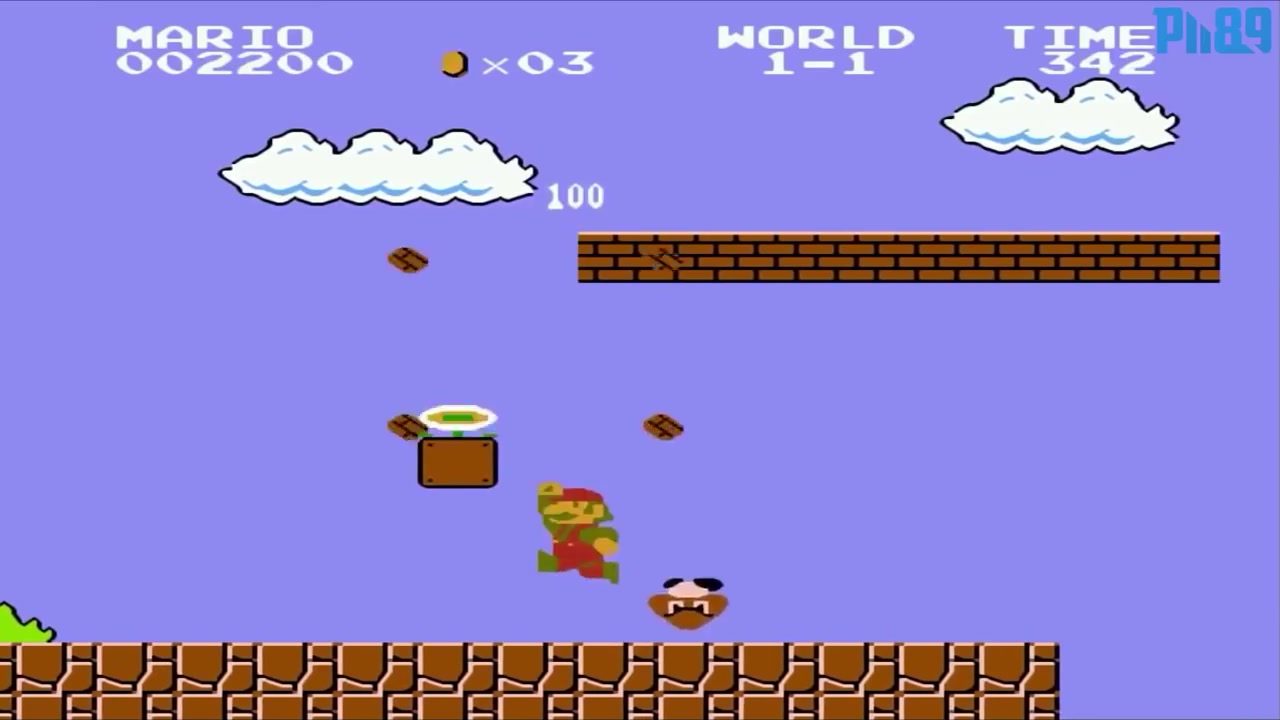mario: (530, 477, 622, 595)
